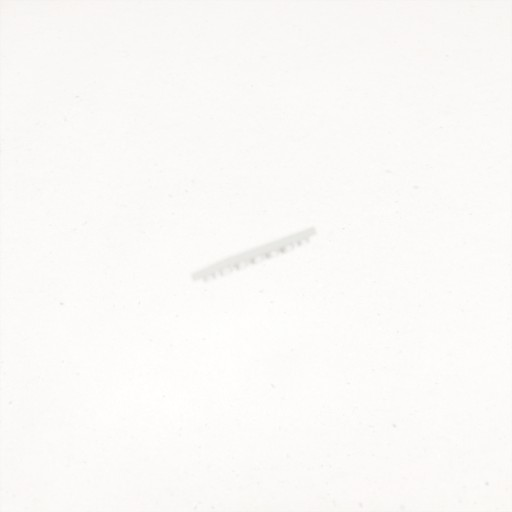lego: (189, 225, 318, 284)
